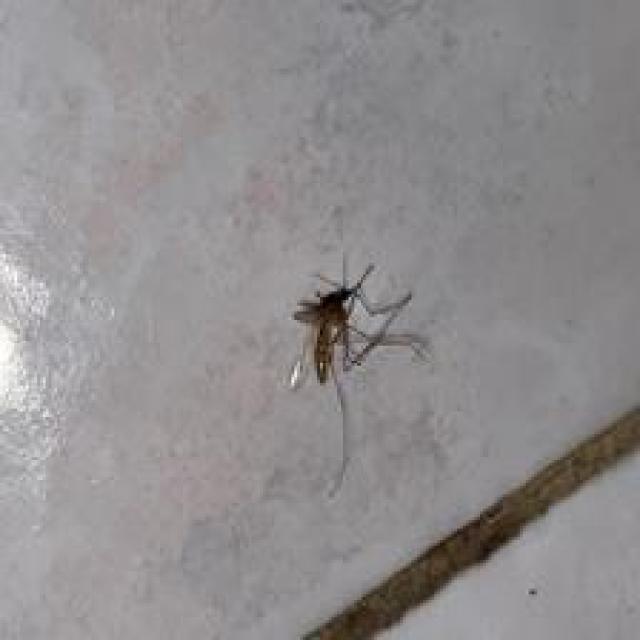Culex: (284, 250, 433, 501)
